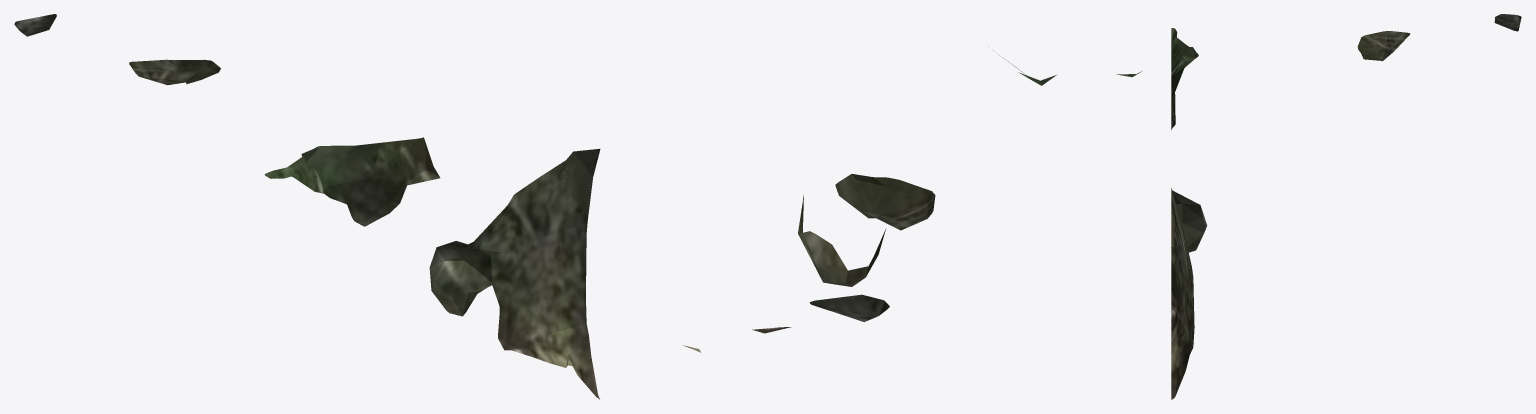
3 renders of one model, left to right at view 1: azimuth 30°, elevation 25°; view 2: azimuth 150°, elevation 25°; view 3: azimuth 270°, elevation 25°, orthographic. The views are drawn at different scales.
Size of the model in its own units: 4.44 by 3.5 by 4.58.
Materials: 1 (1 with a texture image).
